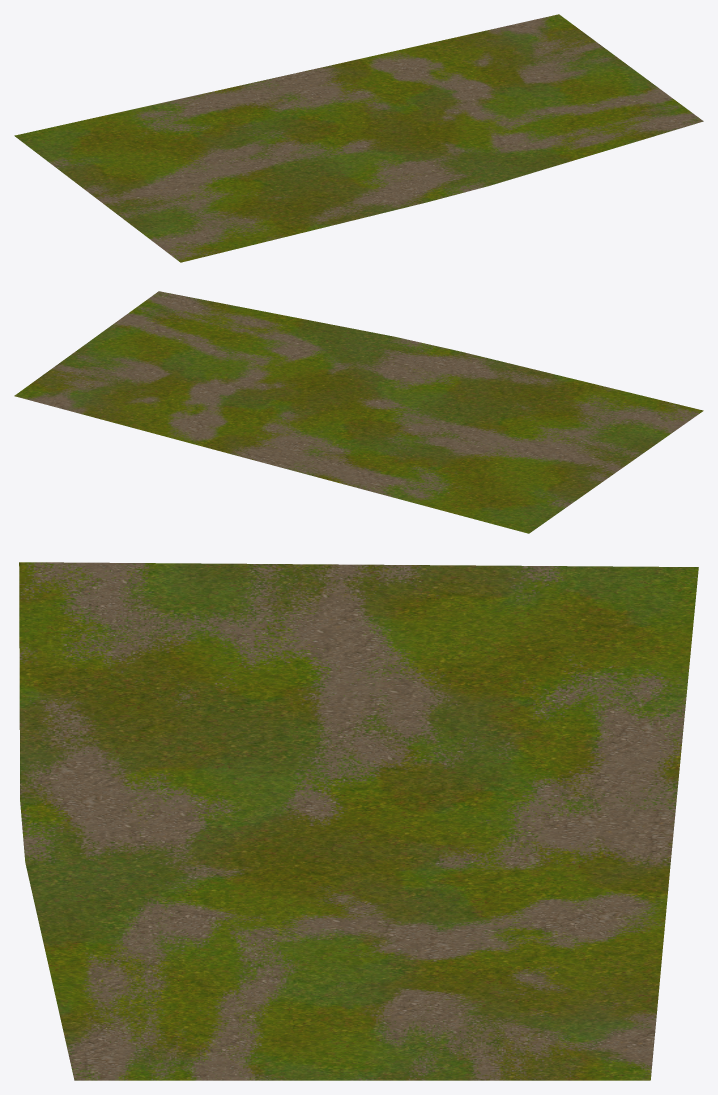
File: ground.glb
3 renders of one model, top to bottom at view 1: azimuth 30°, elevation 25°; view 2: azimuth 150°, elevation 25°; view 3: azimuth 270°, elevation 25°, orthographic. The views are drawn at different scales.
Parts seen in each view (by area): view 1: Plane; view 2: Plane; view 3: Plane.
Boxes of the visible parts, x1,y1,x2,y2 form: Plane: [14, 14, 703, 262]; Plane: [14, 291, 703, 533]; Plane: [19, 562, 698, 1080].
Size of the model in its own units: 122 by 0.0745 by 67.52.
1 material, 1 textured.
